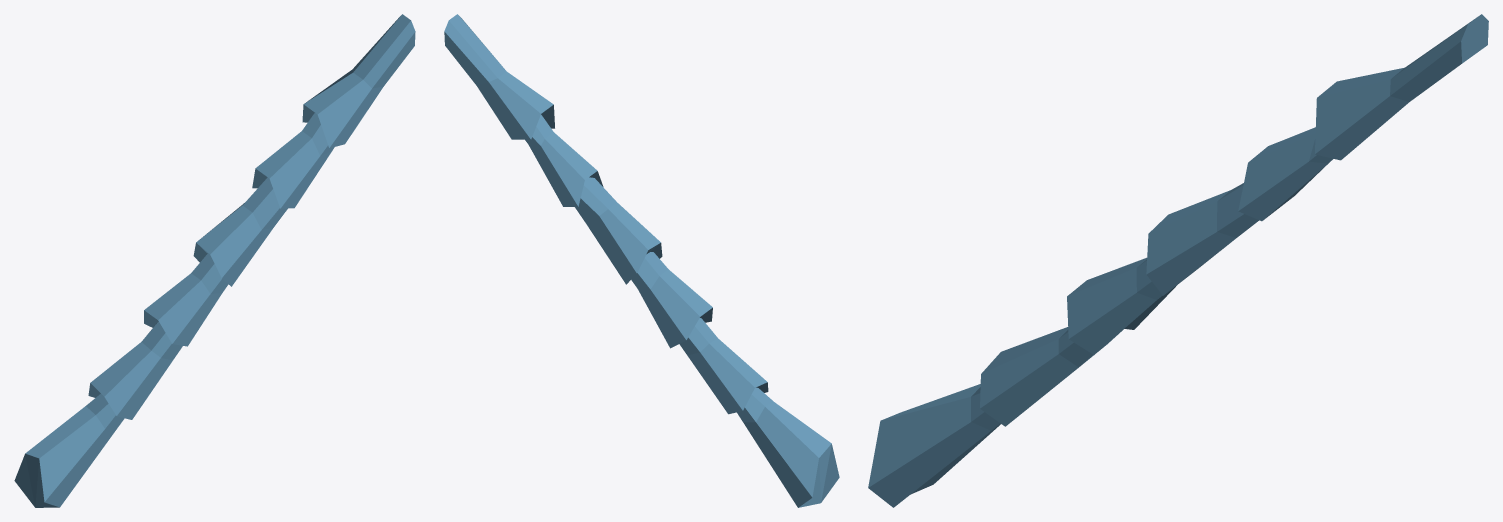
File: ROOF_tile_side_1.glb
The picture shows the model from 3 angles, left to right: view 1: azimuth 30°, elevation 25°; view 2: azimuth 150°, elevation 25°; view 3: azimuth 330°, elevation 25°; orthographic projection. The views are drawn at different scales.
Parts seen in each view (by area): view 1: ROOF_tile_side_1; view 2: ROOF_tile_side_1; view 3: ROOF_tile_side_1.
Part boxes in pixels (<box>): ROOF_tile_side_1: <box>14,14,415,507</box>; ROOF_tile_side_1: <box>444,14,839,507</box>; ROOF_tile_side_1: <box>868,14,1488,507</box>.
Size of the model in its own units: 1.61 by 1.63 by 0.2135.
1 material, 1 textured.
